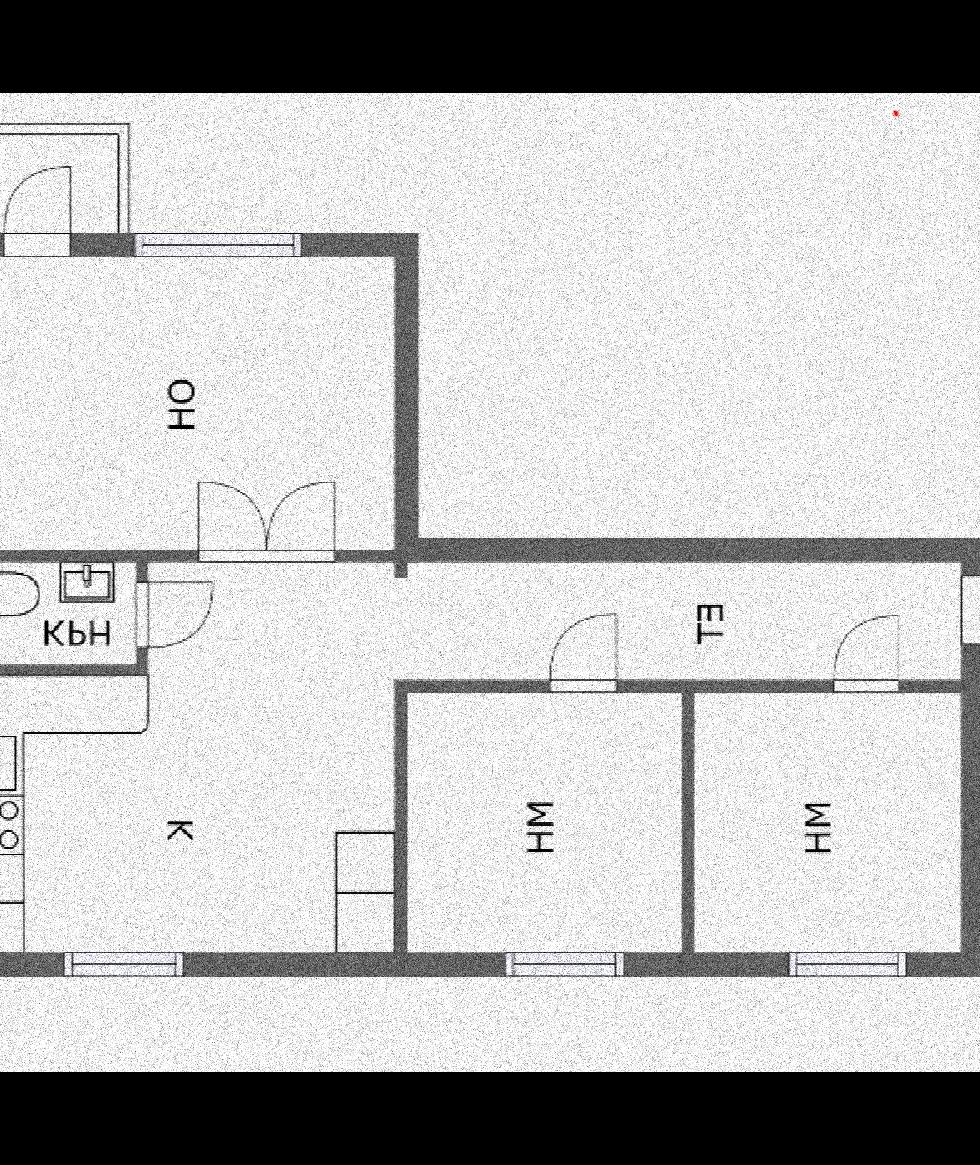door: (193, 471, 342, 572), (548, 604, 628, 694), (4, 162, 78, 258), (132, 578, 220, 647), (832, 610, 904, 692)
window: (140, 228, 304, 252), (790, 950, 908, 980), (501, 952, 624, 978), (65, 951, 182, 978)
zone: (0, 564, 961, 952), (0, 254, 395, 554), (404, 692, 686, 950), (694, 694, 960, 948), (0, 136, 114, 231)
